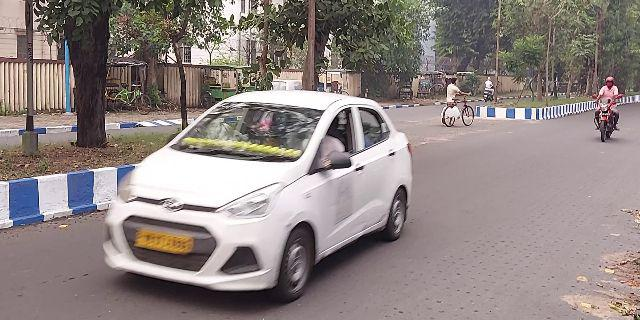Car: (98, 93, 417, 288)
Cycle: (441, 95, 481, 128)
Motorbike: (593, 76, 625, 142)
